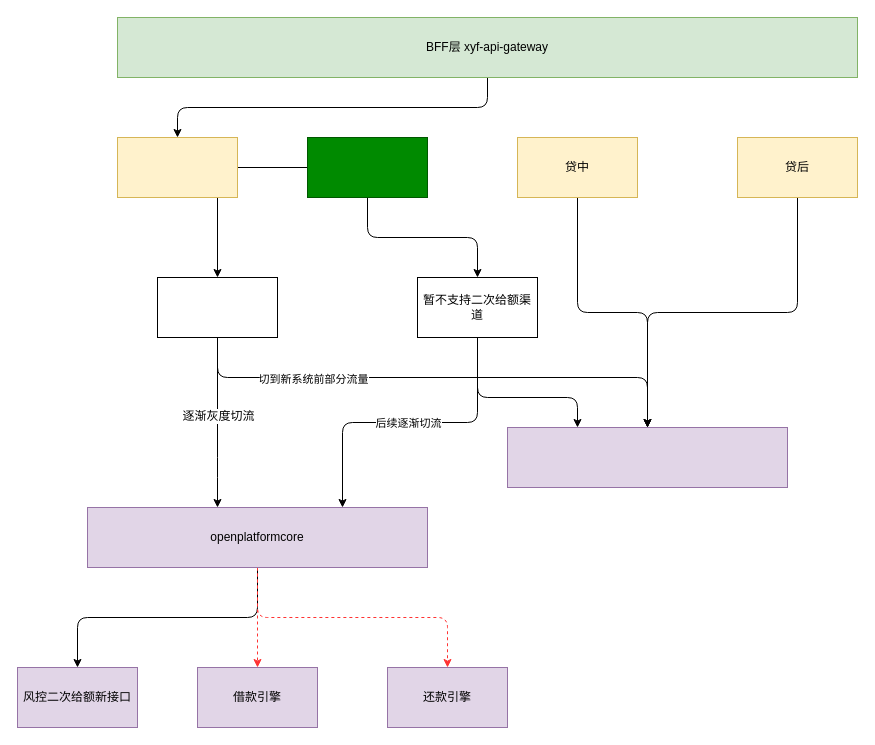
The diagram is 875 pixels wide and 745 high, and some of its shapes have lost their labels. The box of each missing label's shape, as (x1, y1, x2, y2) in pixels:
3家支持二次给额渠道: (156, 276, 278, 338)
xyf-credit-system: (506, 426, 788, 488)
撞库: (116, 136, 238, 198)
贷前: (306, 136, 428, 198)
